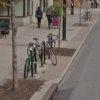Bicycle: (22, 34, 63, 79)
